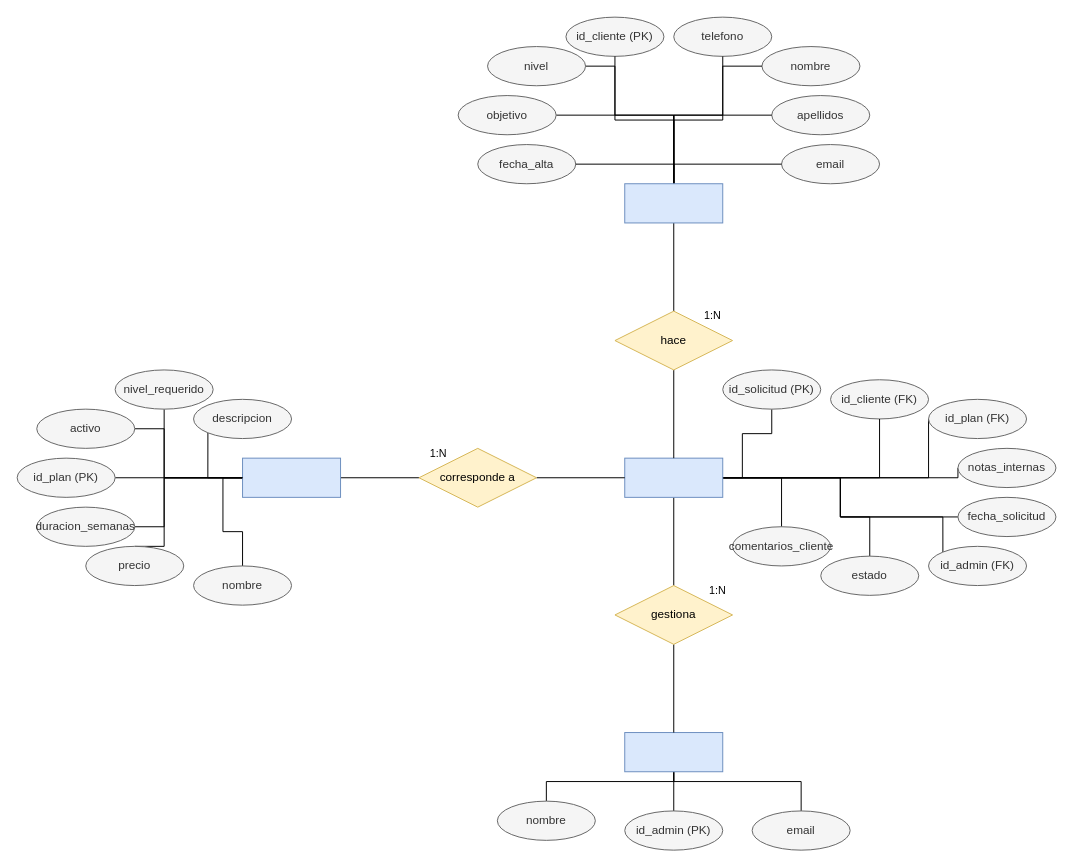
Image size: 1073x867. Some labels were removed from this diagram. The shapes that lost their labels are listed below. From the top down, each one's centre as x and y in pixels, then its label:
At (673,203): "CLIENTE".
At (291,477): "PLAN".
At (673,477): "SOLICITUD".
At (673,752): "ADMINISTRADOR".
